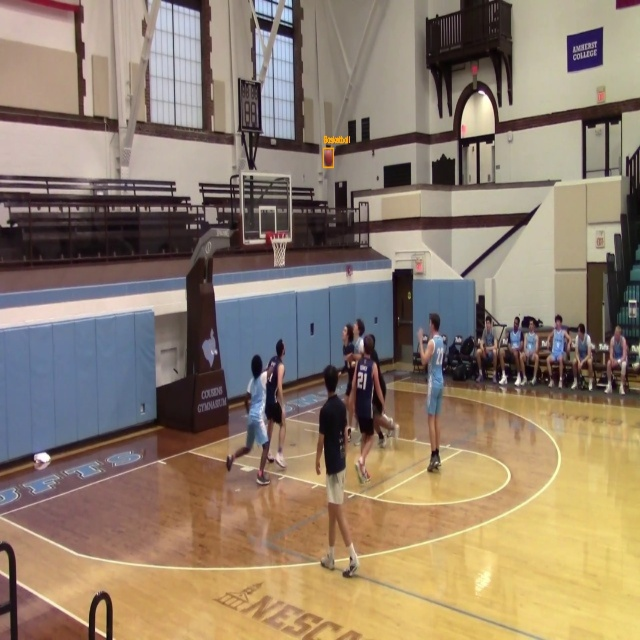Basketball: (324, 149, 334, 167)
